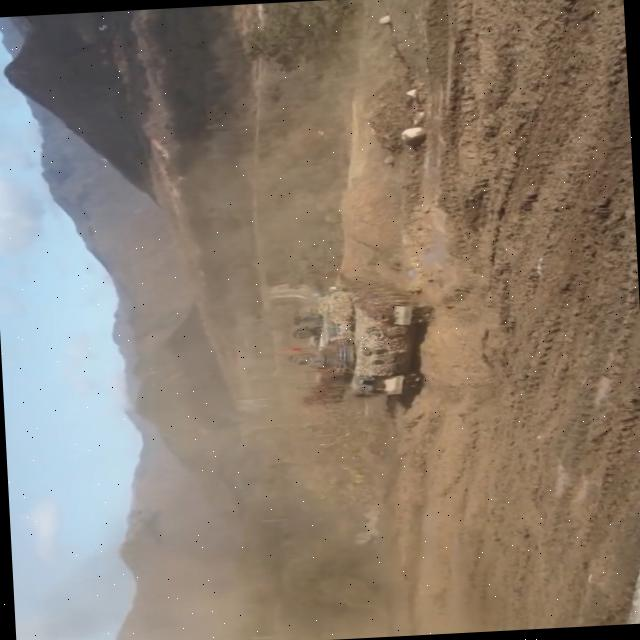korea tank: (272, 240, 440, 410)
